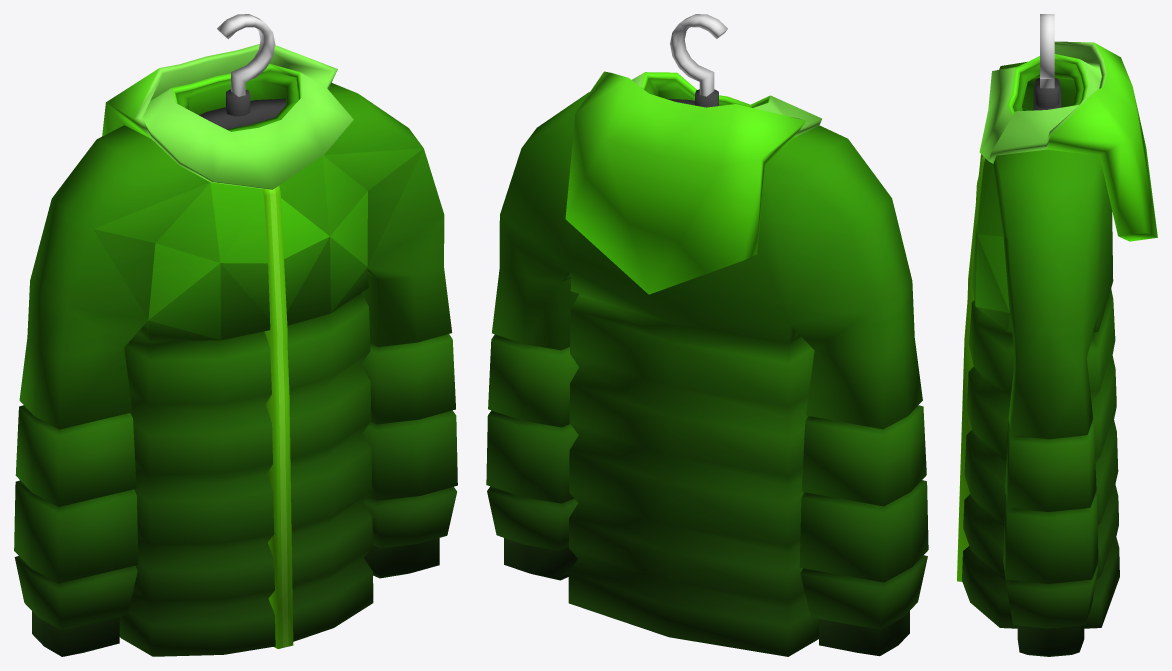
Rendered from SM_Jacket_5.fbx.
The picture shows the model from 3 angles, left to right: view 1: azimuth 30°, elevation 25°; view 2: azimuth 150°, elevation 25°; view 3: azimuth 270°, elevation 25°; orthographic projection. The views are drawn at different scales.
Parts seen in each view (by area): view 1: SM_Jacket_5; view 2: SM_Jacket_5; view 3: SM_Jacket_5.
Boxes of the visible parts, x1,y1,x2,y2 form: SM_Jacket_5: [14, 14, 457, 656]; SM_Jacket_5: [486, 14, 928, 656]; SM_Jacket_5: [957, 14, 1157, 656].
Size of the model in its own units: 61.38 by 84.79 by 27.27.
Materials: 1 (1 with a texture image).
